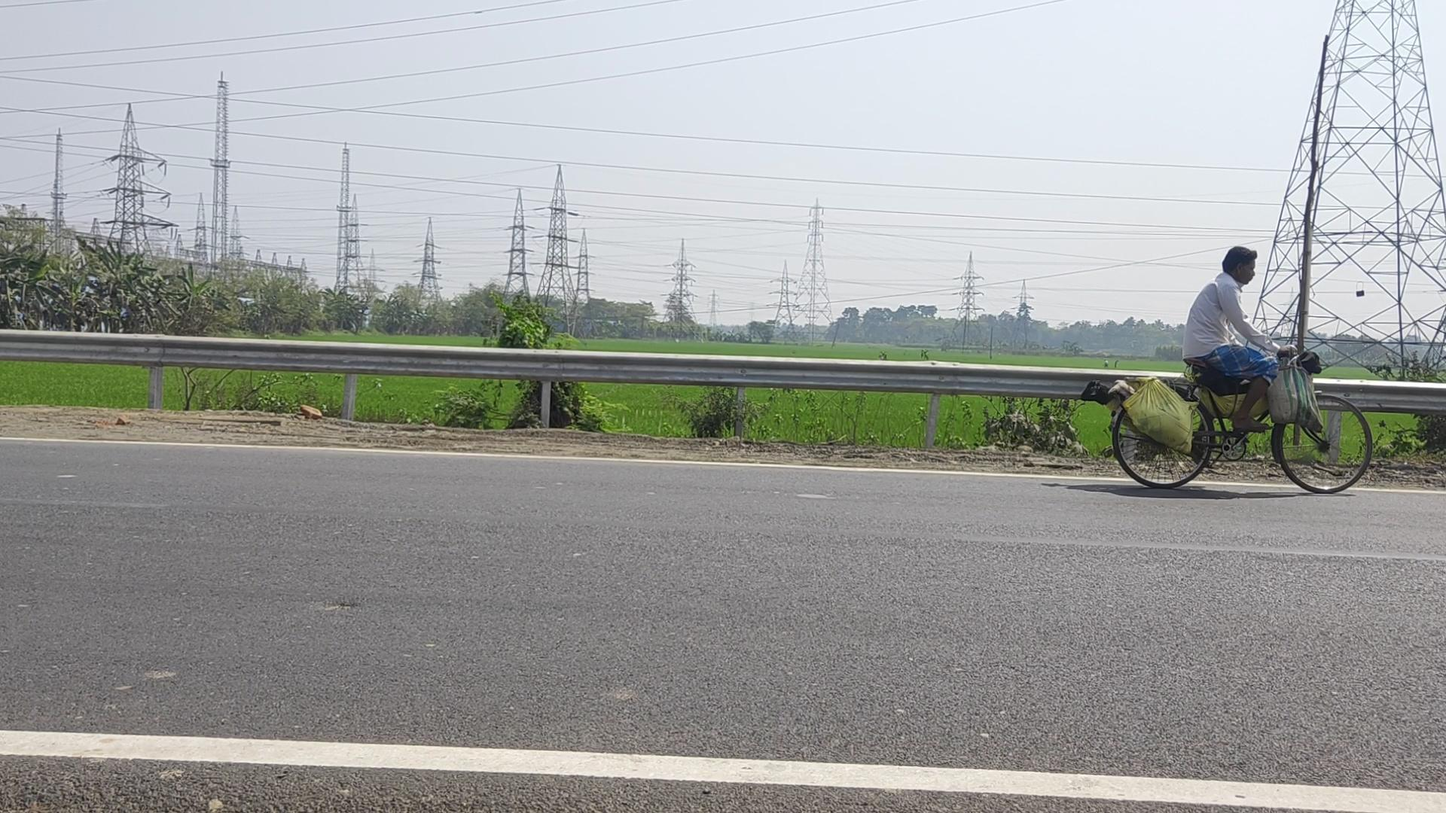bike: (1078, 246, 1374, 493)
